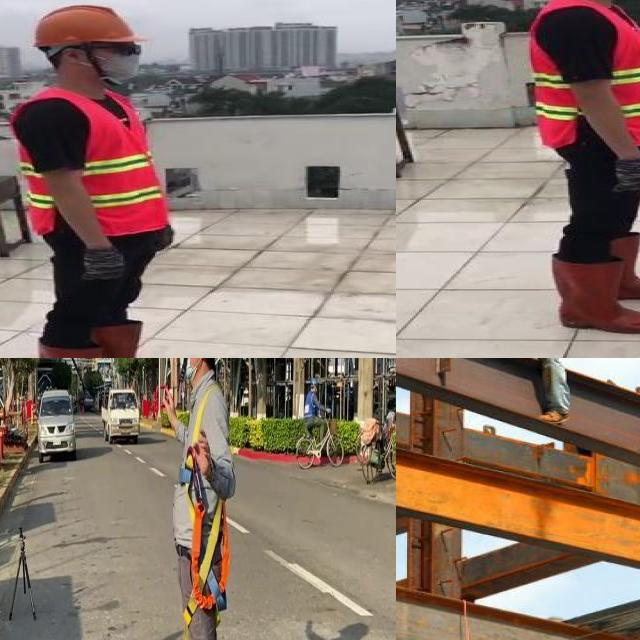Harness: (187, 457, 231, 626)
boots: (552, 252, 640, 337), (581, 230, 640, 300), (89, 323, 188, 358), (32, 335, 151, 358)
face_mask: (90, 41, 144, 78)
glasses: (103, 42, 147, 60)
hand_glove: (78, 247, 131, 285), (605, 156, 640, 196)
head_helmet: (23, 2, 148, 52)
person: (6, 1, 195, 358), (508, 0, 640, 336)
vest: (13, 85, 171, 235), (527, 0, 640, 147)
